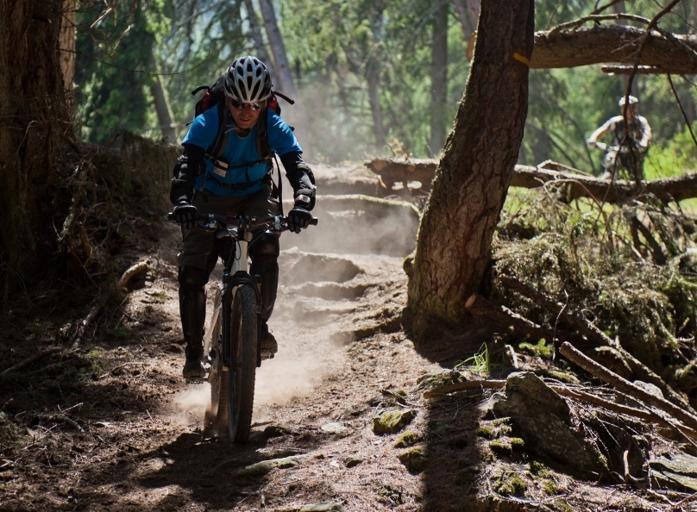non-vehicle: (166, 212, 317, 444), (594, 141, 640, 183)
